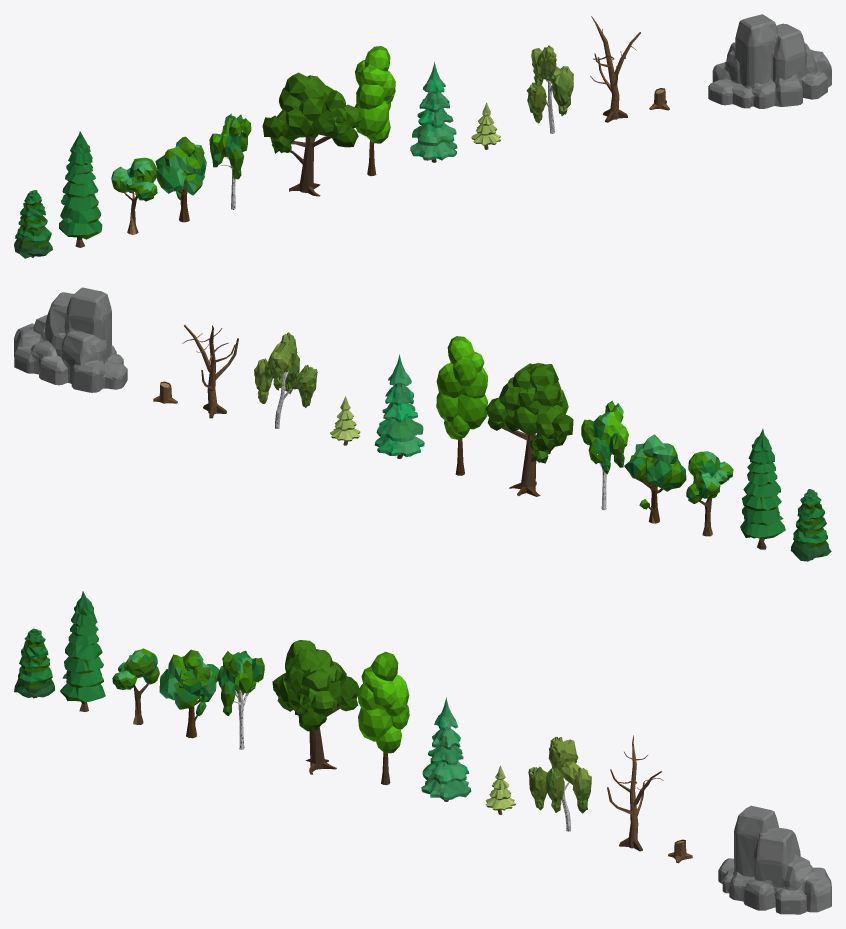
The model's file is tree_and_rock.fbx.
3 renders of one model, top to bottom at view 1: azimuth 30°, elevation 25°; view 2: azimuth 150°, elevation 25°; view 3: azimuth 330°, elevation 25°, orthographic. The views are drawn at different scales.
Parts seen in each view (by area): view 1: Rock_1_, _6_tree, _7_tree, _2_tree, _8_tree, _4_tree, _10_tree, _5_tree, _1_tree, _3_tree, _11_tree, _9_tree; view 2: Rock_1_, _6_tree, _7_tree, _2_tree, _8_tree, _10_tree, _4_tree, _5_tree, _3_tree, _1_tree, _11_tree, _9_tree; view 3: Rock_1_, _6_tree, _7_tree, _2_tree, _10_tree, _8_tree, _4_tree, _5_tree, _1_tree, _3_tree, _11_tree, _9_tree.
Boxes of the visible parts, x1,y1,x2,y2 form: Rock_1_: (708,14,831,108); _6_tree: (262,72,361,196); _7_tree: (355,46,395,176); _2_tree: (59,131,102,247); _8_tree: (410,61,457,162); _4_tree: (155,136,206,222); _10_tree: (526,45,573,133); _5_tree: (209,113,251,209); _1_tree: (14,190,52,258); _3_tree: (111,157,157,234); _11_tree: (590,16,640,122); _9_tree: (471,102,500,149); Rock_1_: (14,287,127,392); _6_tree: (485,363,573,496); _7_tree: (436,336,487,475); _2_tree: (740,429,785,549); _8_tree: (374,354,424,458); _10_tree: (254,332,317,428); _4_tree: (624,434,686,523); _5_tree: (581,400,628,510); _3_tree: (686,451,733,536); _1_tree: (790,489,831,561); _11_tree: (182,325,238,418); _9_tree: (330,396,360,445); Rock_1_: (718,805,831,914); _6_tree: (272,640,359,774); _7_tree: (358,651,409,785); _2_tree: (60,591,105,711); _10_tree: (528,737,591,831); _8_tree: (421,697,471,801); _4_tree: (159,649,219,738); _5_tree: (217,650,264,749); _1_tree: (14,628,54,698); _3_tree: (112,648,159,724); _11_tree: (607,735,663,851); _9_tree: (485,765,515,814).
Size of the model in its own units: 1798 by 282 by 179.
Materials: 13 (13 with a texture image).
